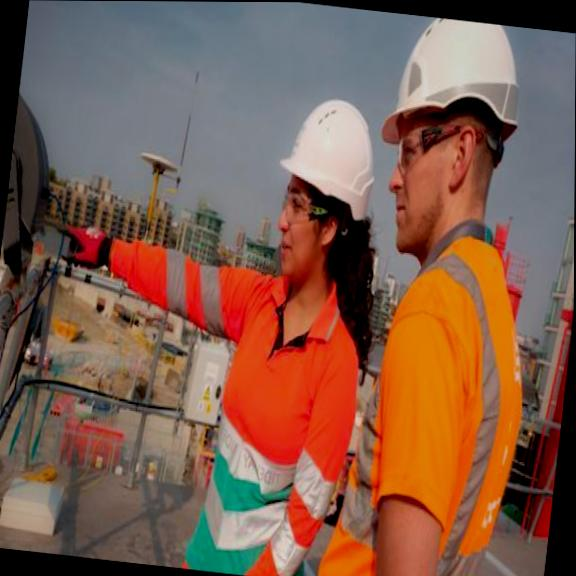no_safety_vest: (166, 262, 361, 576)
safety_vest: (329, 231, 527, 576)
